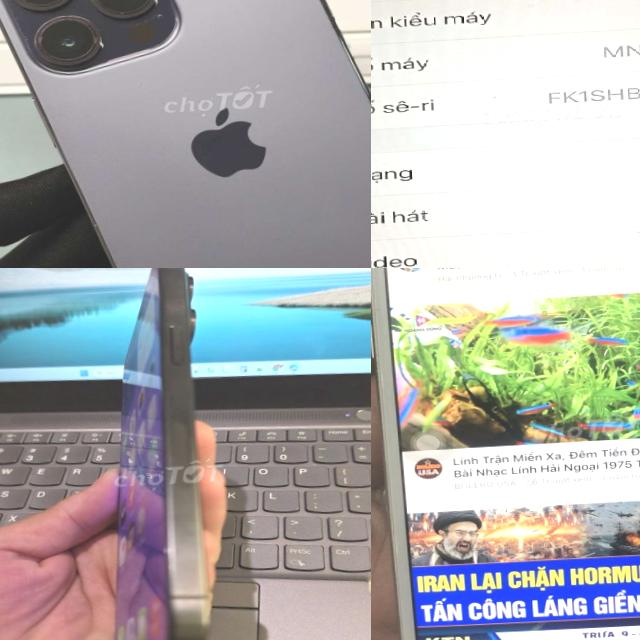gen_14: (0, 0, 371, 268)
gen_15: (77, 268, 250, 640)
gen_7_8: (371, 268, 640, 640), (371, 0, 640, 268)
